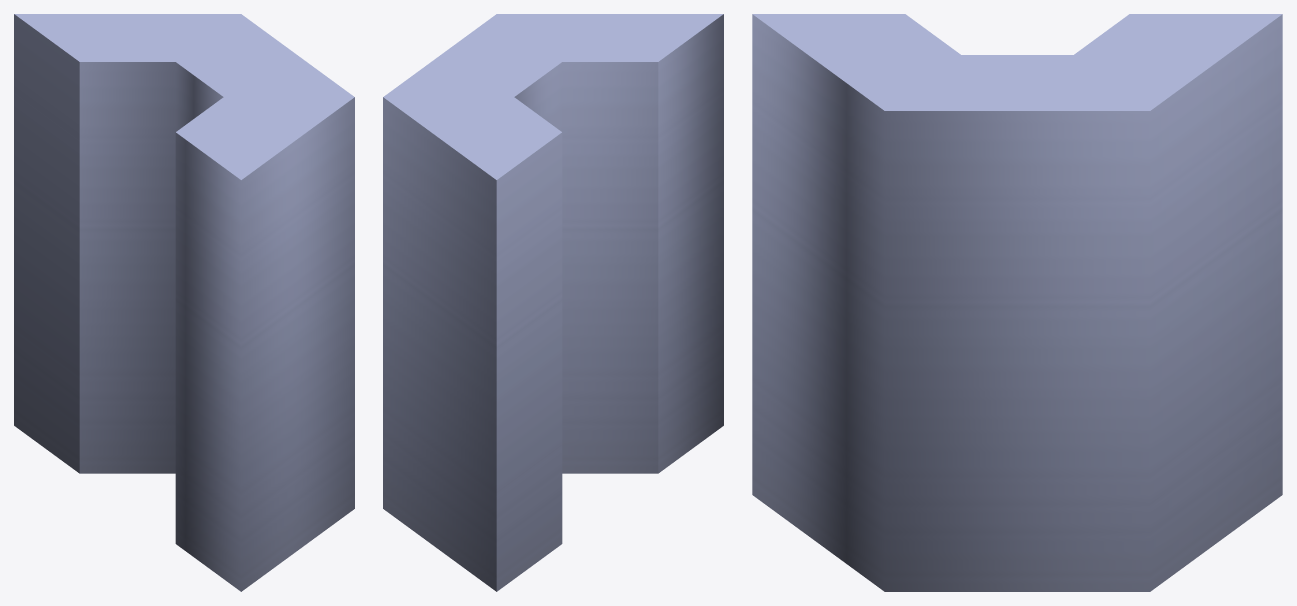
Rendered from shape-hollow-hexagon-half.fbx.
3 views of the same model, side by side, from view 1: azimuth 30°, elevation 25°; view 2: azimuth 150°, elevation 25°; view 3: azimuth 270°, elevation 25° (orthographic). The views are drawn at different scales.
Parts seen in each view (by area): view 1: shape-hollow-hexagon-half; view 2: shape-hollow-hexagon-half; view 3: shape-hollow-hexagon-half.
Boxes of the visible parts, <box> form: shape-hollow-hexagon-half: <box>14,14,354,591</box>; shape-hollow-hexagon-half: <box>383,14,723,591</box>; shape-hollow-hexagon-half: <box>752,14,1282,591</box>.
Size of the model in its own units: 43.3 by 100 by 100.
